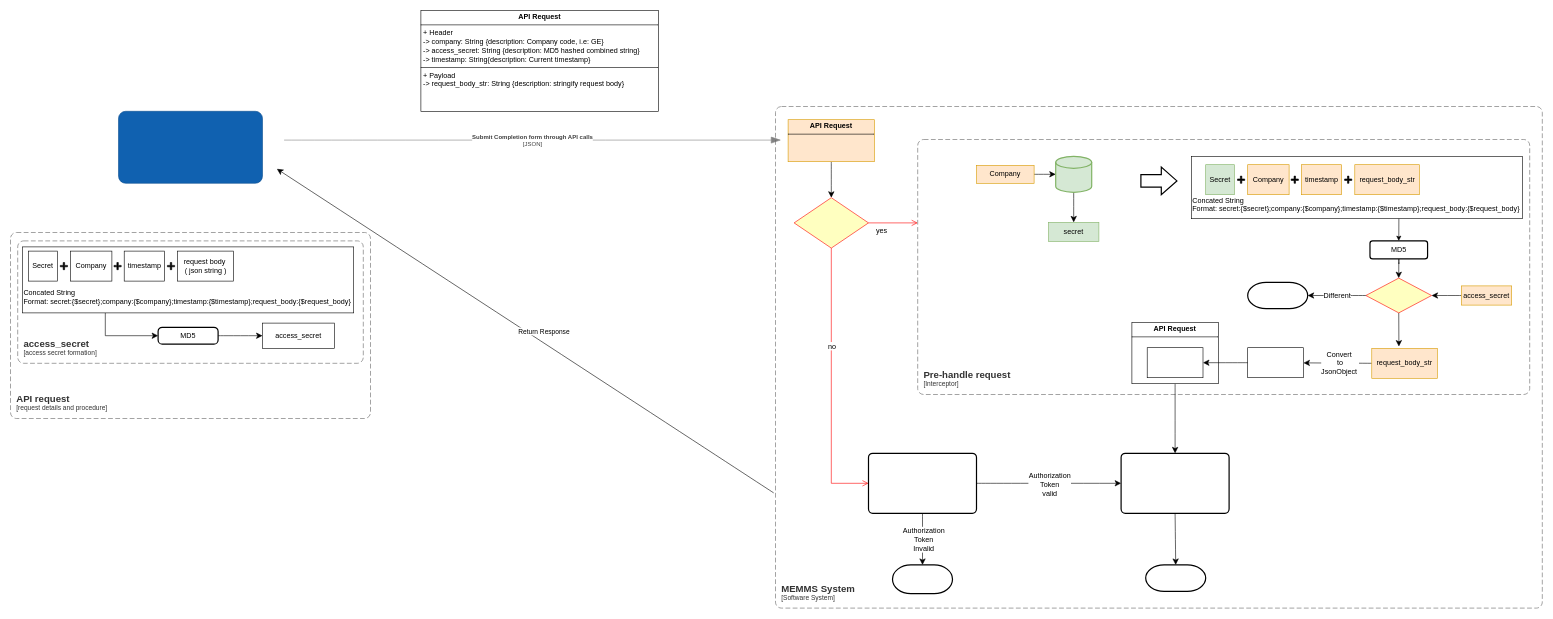
Some shapes in this 1553 by 619 pixel diagram are drawn without their labels. Here are the shapes that lost their labels. From the top down, the centre of each, then its label:
the point at 190,147: Vendor Company [Vendor System] Current Company which are using GS1 system
the point at 831,222: access_secret in header
the point at 1277,295: Response 403
the point at 1398,295: Compare
the point at 1175,362: request payload (Json)
the point at 1275,362: request body (Json)
the point at 922,483: Login Interceptor
the point at 1174,483: MEMMS web service
the point at 922,579: Response 401
the point at 1175,578: Response 200
